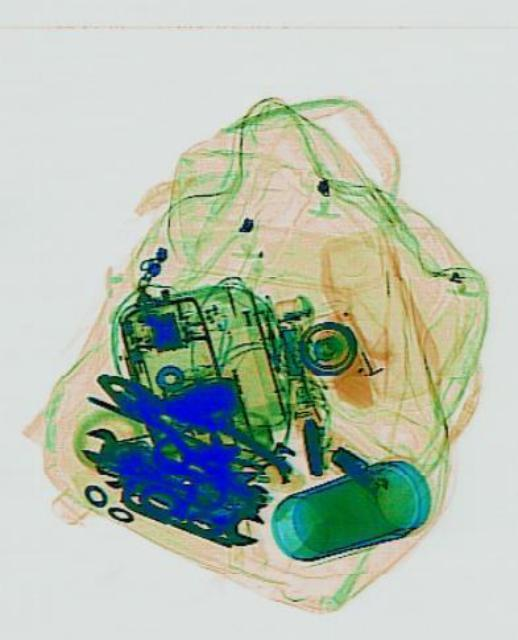Pliers: (82, 345, 292, 519)
Wrench: (75, 418, 194, 506), (179, 492, 261, 548)
